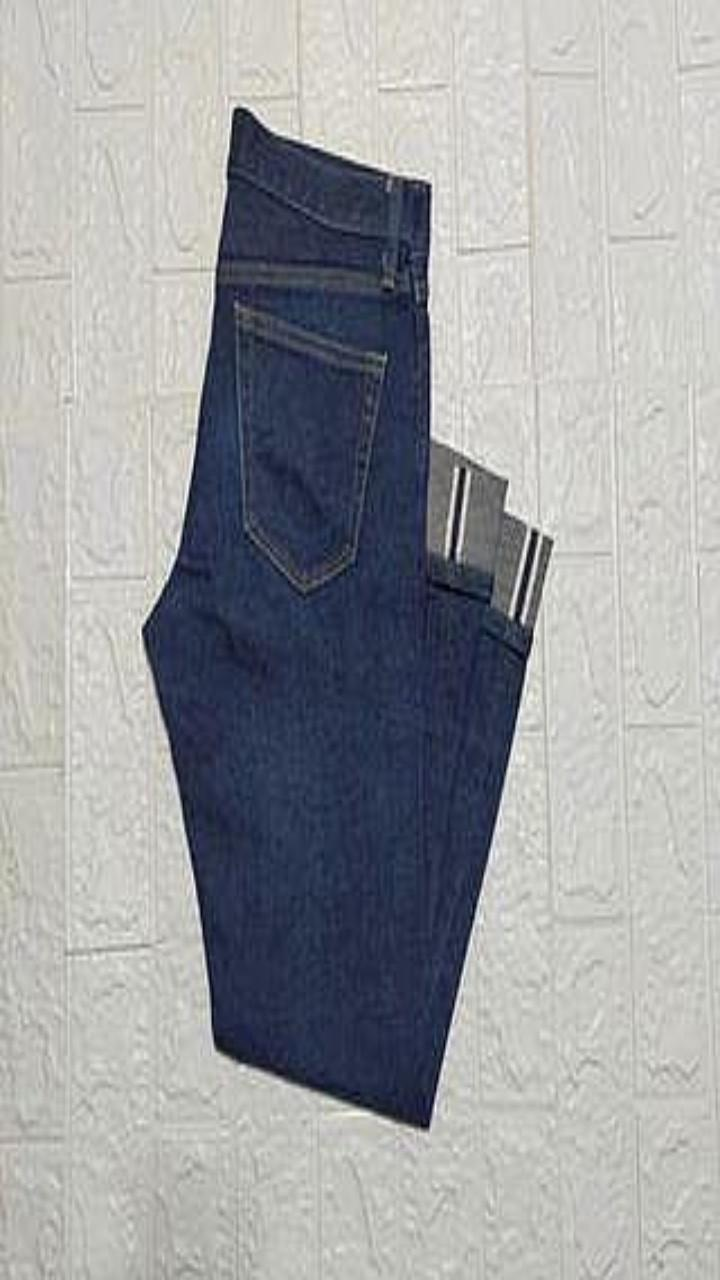Jeans: (142, 107, 551, 1127)
